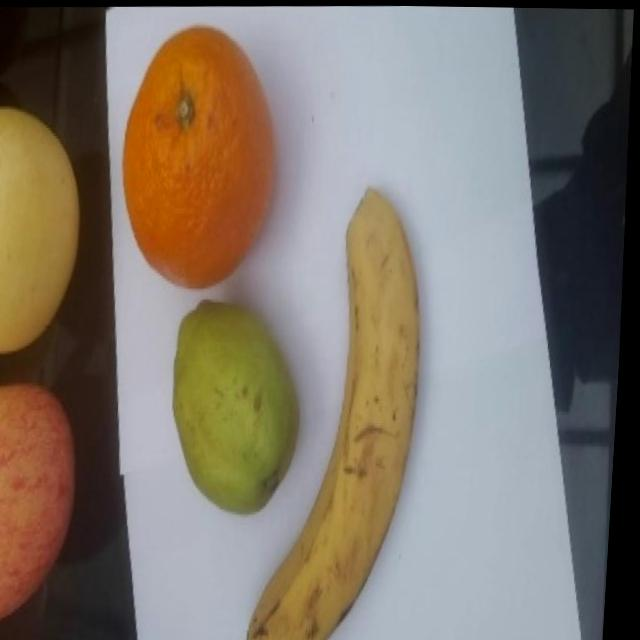Apple: (0, 380, 89, 625)
Banana: (246, 183, 437, 640)
Orange: (116, 21, 286, 291)
